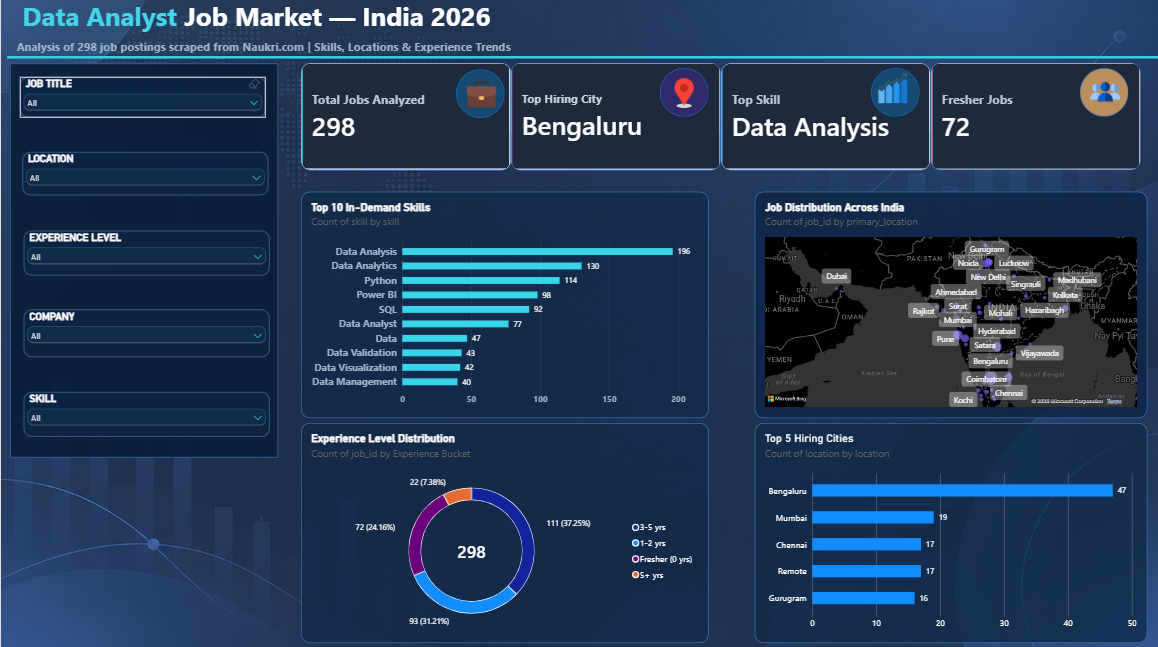

The dashboard page shown, as its layout file describes it:
{"tool":"powerbi","page":{"name":"Page 1","canvas":[1920,1080],"ordinal":0},"visuals":[{"type":"cardVisual","fields":{"Data":["CountNonNull(jobs_cleaned.job_id)"]},"box":[494.8,106.9,345.6,176.5],"z":0},{"type":"textbox","box":[0,0,1920.4,67.9],"z":1000},{"type":"textbox","box":[10.9,67,1909.2,30.8],"z":2000},{"type":"shape","box":[9.9,22.4,1909,150],"z":3000},{"type":"cardVisual","fields":{"Data":["jobs_cleaned.Top City"]},"box":[840.7,106.9,345,176.5],"z":4000},{"type":"cardVisual","fields":{"Data":["jobs_cleaned.Top Skill"]},"box":[1186,106.9,345,176.5],"z":5000},{"type":"cardVisual","fields":{"Data":["jobs_cleaned.Fresher Jobs"]},"box":[1531.4,106.9,345,176],"z":6000},{"type":"clusteredBarChart","title":"Top 10 In-Demand Skills","fields":{"Category":["skills_long_format.skill"],"Y":["CountNonNull(skills_long_format.skill)"]},"box":[494.8,318.2,671.3,372.9],"z":7000},{"type":"map","title":"Job Distribution Across India","fields":{"Category":["jobs_cleaned.primary_location"],"Size":["CountNonNull(jobs_cleaned.job_id)"]},"box":[1241.2,319,646.3,372.6],"z":8000},{"type":"donutChart","title":"Experience Level Distribution","fields":{"Category":["jobs_cleaned.Experience Bucket"],"Y":["CountNonNull(jobs_cleaned.job_id)"]},"box":[494,699.8,671,362.3],"z":9000},{"type":"clusteredBarChart","title":"Top 5 Hiring Cities","fields":{"Y":["CountNonNull(jobs_cleaned.location)"],"Category":["jobs_cleaned.location"]},"box":[1241.2,699.8,646.3,362.3],"z":10000},{"type":"shape","box":[14.4,107,442.5,650.4],"z":11000},{"type":"slicer","title":"  JOB TITLE","fields":{"Values":["jobs_cleaned.title"]},"box":[30.3,130.5,405.4,67.6],"z":12000},{"type":"slicer","title":"  LOCATION","fields":{"Values":["skills_long_format.primary_location"]},"box":[35,254,405.4,72.2],"z":13000},{"type":"slicer","fields":{"Values":["jobs_cleaned.Experience Bucket"]},"box":[37.3,382.1,405.4,74.6],"z":14000},{"type":"slicer","title":"Company","fields":{"Values":["jobs_cleaned.company"]},"box":[37.3,512.6,405.4,79.2],"z":15000},{"type":"slicer","title":"Skills","fields":{"Values":["skills_long_format.skill"]},"box":[37.3,647.8,405.4,74.6],"z":16000},{"type":"shape","box":[1776.3,115.3,80.3,80.3],"z":17000},{"type":"shape","box":[749.2,117.3,80.3,80.3],"z":18000},{"type":"image","box":[761.6,133.8,59.7,49.4],"z":19000},{"type":"shape","box":[1084.7,115.3,80.3,80.3],"z":23000},{"type":"shape","box":[1432.6,115.3,80.3,80.3],"z":24000},{"type":"image","box":[1088.9,123.5,72,65.9],"z":24500},{"type":"image","box":[1432.6,123.5,72,49.4],"z":25000},{"type":"image","box":[1788.7,129.7,59.7,49.4],"z":25500}]}

Visuals, with their boxes in screenshot pixels (x1, y1, x2, y2), scaled from the page's 1920x1080 canvas onto the 1158x647 screenshot:
cardVisual - CountNonNull(jobs_cleaned.job_id): x1=298 y1=64 x2=507 y2=170
textbox: x1=0 y1=0 x2=1157 y2=41
textbox: x1=7 y1=40 x2=1157 y2=59
shape: x1=6 y1=13 x2=1157 y2=103
cardVisual - jobs_cleaned.Top City: x1=507 y1=64 x2=715 y2=170
cardVisual - jobs_cleaned.Top Skill: x1=715 y1=64 x2=923 y2=170
cardVisual - jobs_cleaned.Fresher Jobs: x1=924 y1=64 x2=1132 y2=169
"Top 10 In-Demand Skills" clusteredBarChart: x1=298 y1=191 x2=703 y2=414
"Job Distribution Across India" map: x1=749 y1=191 x2=1138 y2=414
"Experience Level Distribution" donutChart: x1=298 y1=419 x2=703 y2=636
"Top 5 Hiring Cities" clusteredBarChart: x1=749 y1=419 x2=1138 y2=636
shape: x1=9 y1=64 x2=276 y2=454
"  JOB TITLE" slicer: x1=18 y1=78 x2=263 y2=119
"  LOCATION" slicer: x1=21 y1=152 x2=266 y2=195
slicer - jobs_cleaned.Experience Bucket: x1=22 y1=229 x2=267 y2=274
"Company" slicer: x1=22 y1=307 x2=267 y2=355
"Skills" slicer: x1=22 y1=388 x2=267 y2=433
shape: x1=1071 y1=69 x2=1120 y2=117
shape: x1=452 y1=70 x2=500 y2=118
image: x1=459 y1=80 x2=495 y2=110
shape: x1=654 y1=69 x2=703 y2=117
shape: x1=864 y1=69 x2=912 y2=117
image: x1=657 y1=74 x2=700 y2=113
image: x1=864 y1=74 x2=907 y2=104
image: x1=1079 y1=78 x2=1115 y2=107
